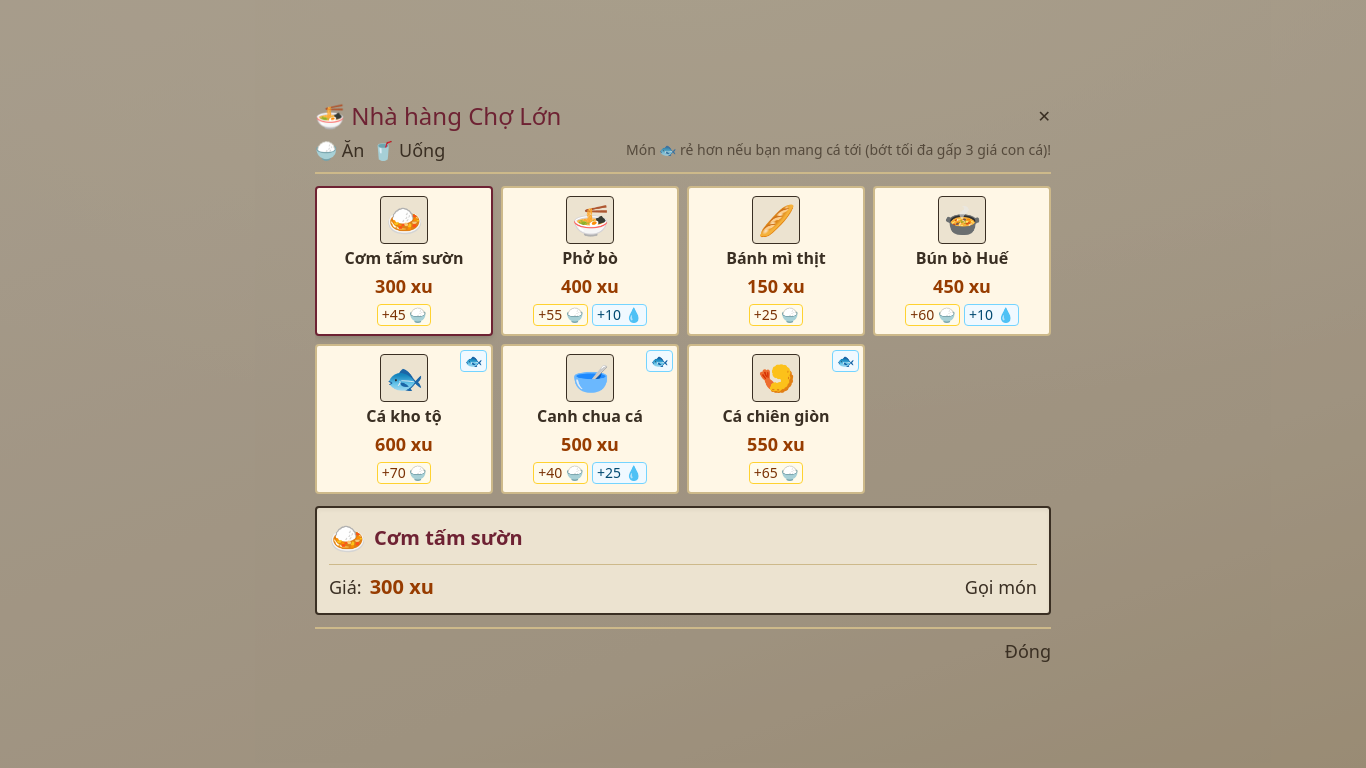
Test: RestaurantModal › shows the Vietnamese error when the coins run short
This screenshot has width=1366, height=768.
Click the button "Gọi món" at (1001, 586), box [965, 572, 1037, 600]
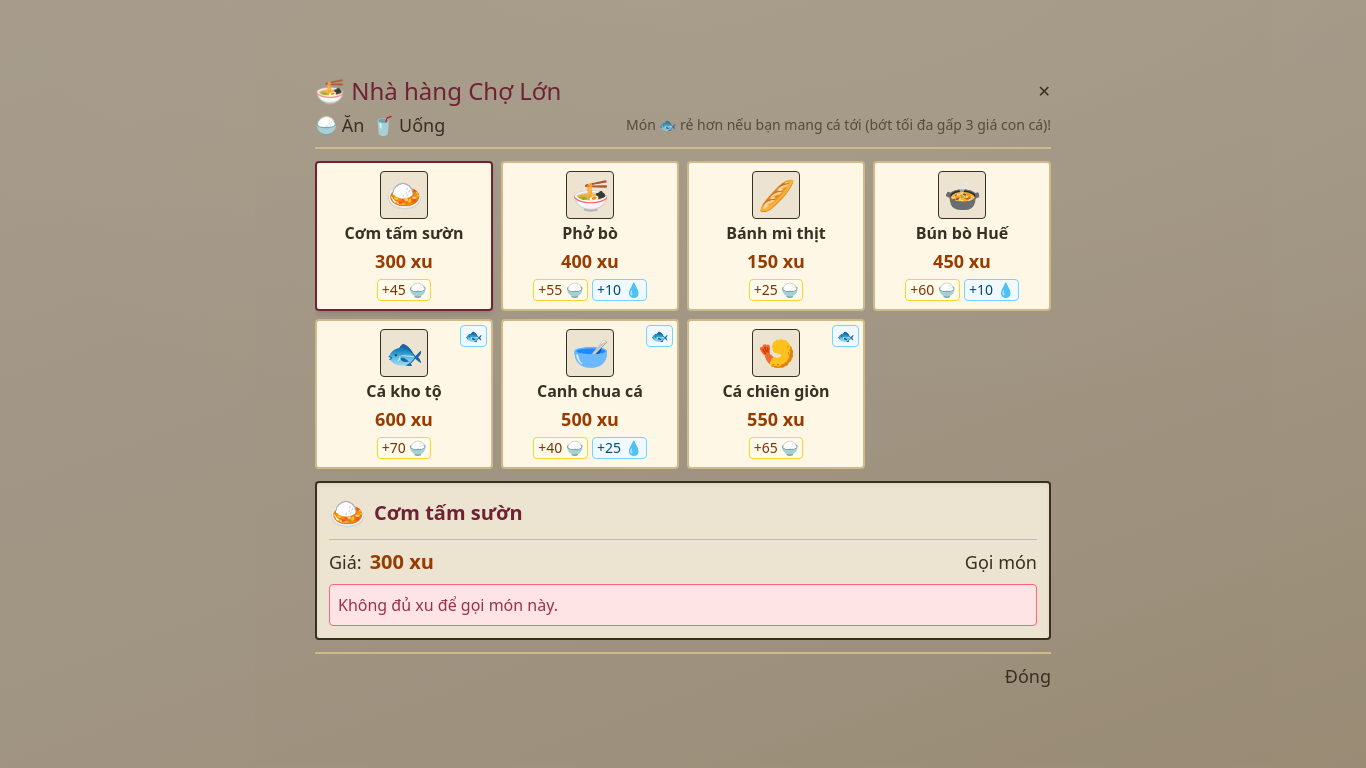
Now the message reads "Không đủ xu để gọi món này.", box [338, 594, 558, 616]
